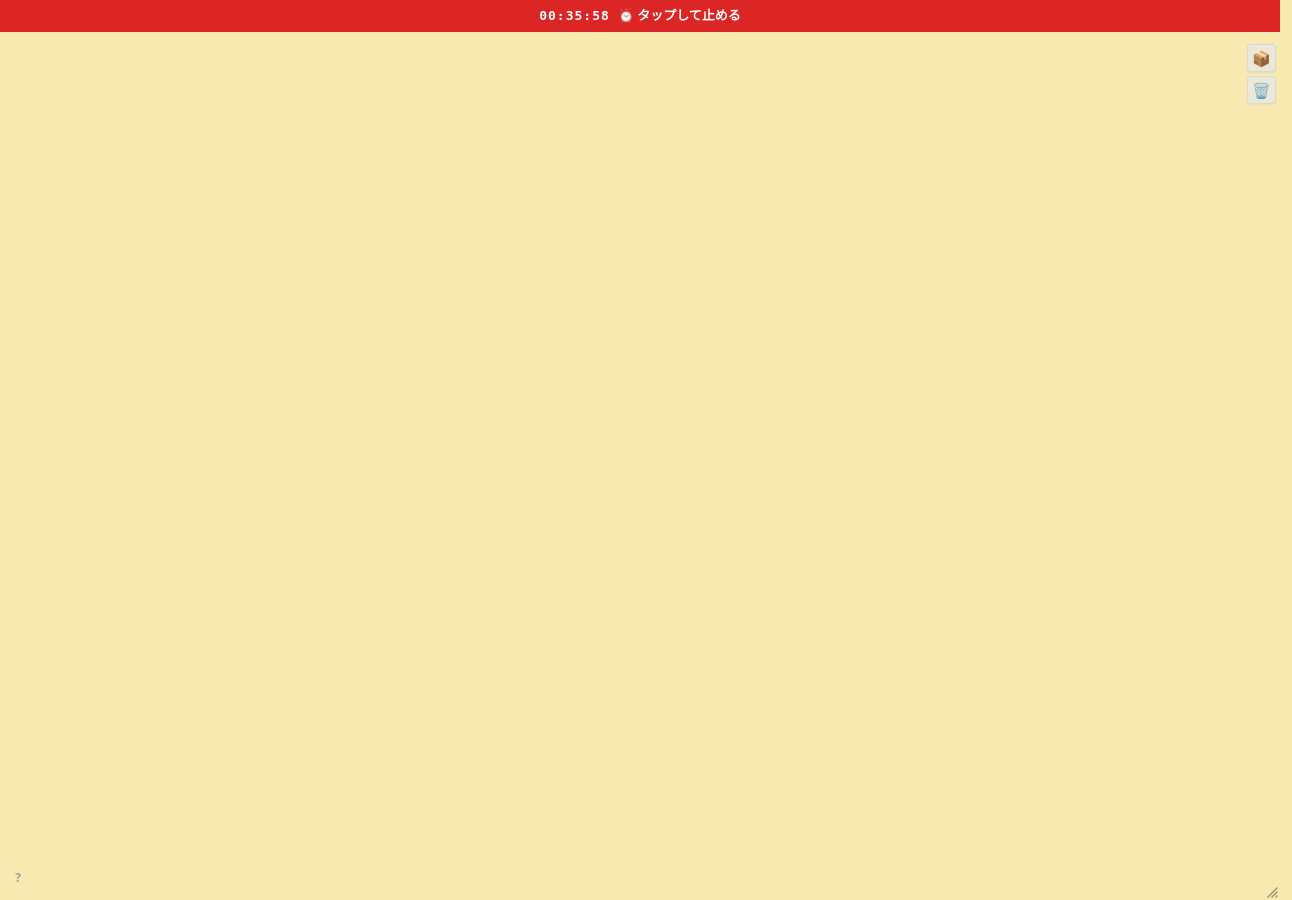
Test case: StickyNote Component › 停止したアラームは監視周期を過ぎても再発火しない
The image size is (1292, 900).
Click the text "00:35:58⏰ タップして止める": coordinates (640, 16) [0,0,1280,32]
Wait 20100 ms
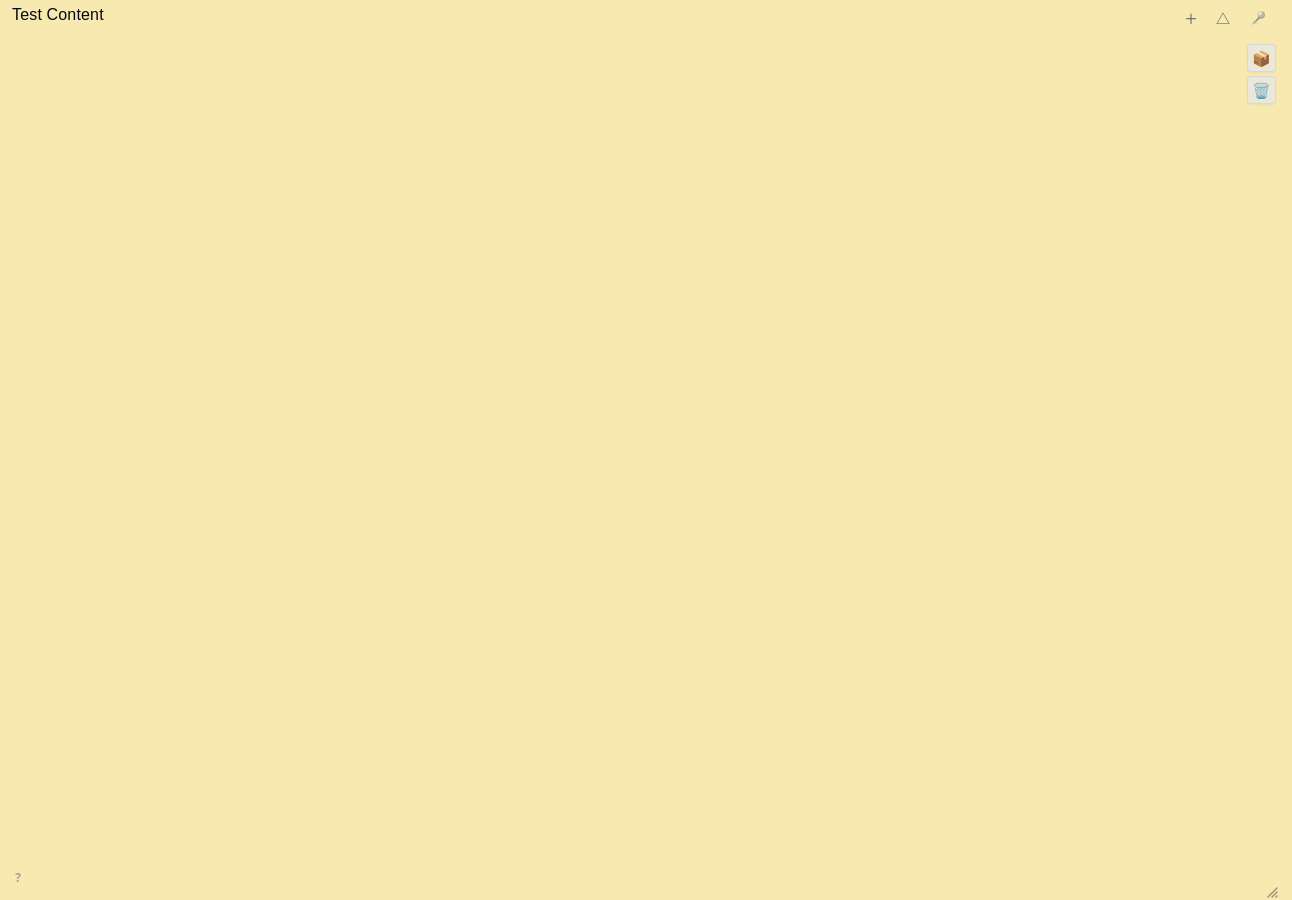
Expected: the text "タップして止める" is gone
